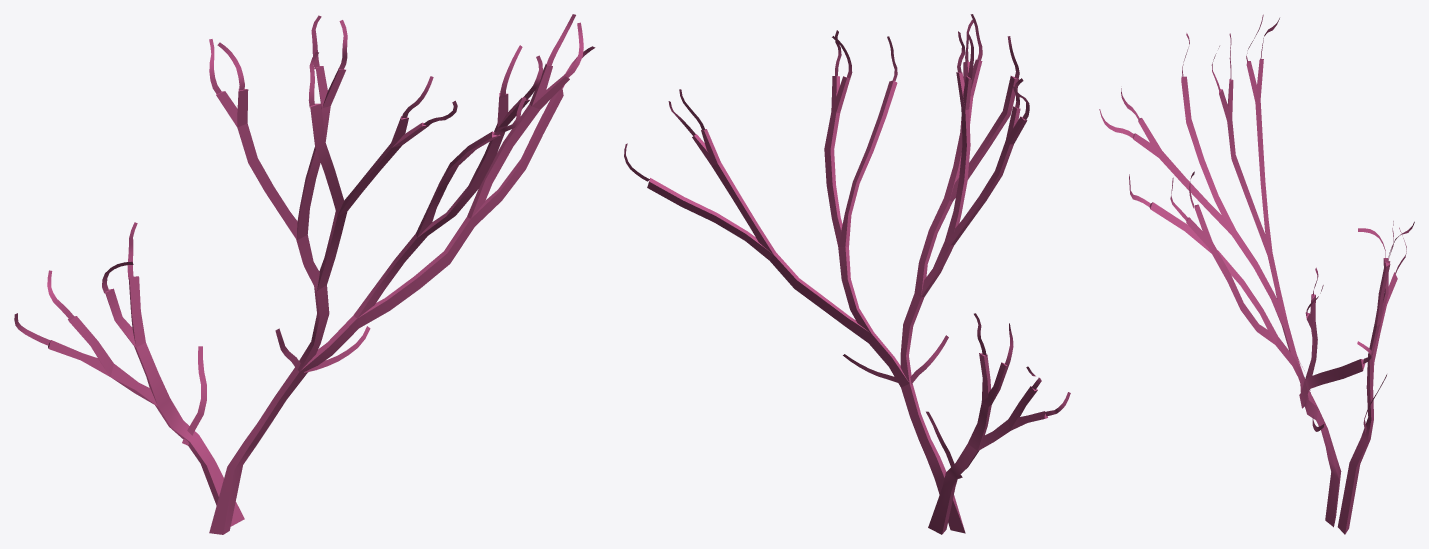
Rendered from coral_B_light.fbx.
3 views of the same model, side by side, from view 1: azimuth 30°, elevation 25°; view 2: azimuth 150°, elevation 25°; view 3: azimuth 270°, elevation 25° (orthographic). The views are drawn at different scales.
Visible parts, largest first — view 1: coral_B_light_twigs, coral_B_light_leaves; view 2: coral_B_light_twigs, coral_B_light_leaves; view 3: coral_B_light_twigs, coral_B_light_leaves.
Part boxes in pixels (x1,y1,x2,y2): coral_B_light_twigs: [48, 64, 569, 534]; coral_B_light_leaves: [14, 14, 595, 445]; coral_B_light_twigs: [647, 59, 1047, 534]; coral_B_light_leaves: [624, 14, 1070, 478]; coral_B_light_twigs: [1133, 59, 1397, 534]; coral_B_light_leaves: [1099, 14, 1414, 433].
Size of the model in its own units: 154 by 144 by 80.8.
